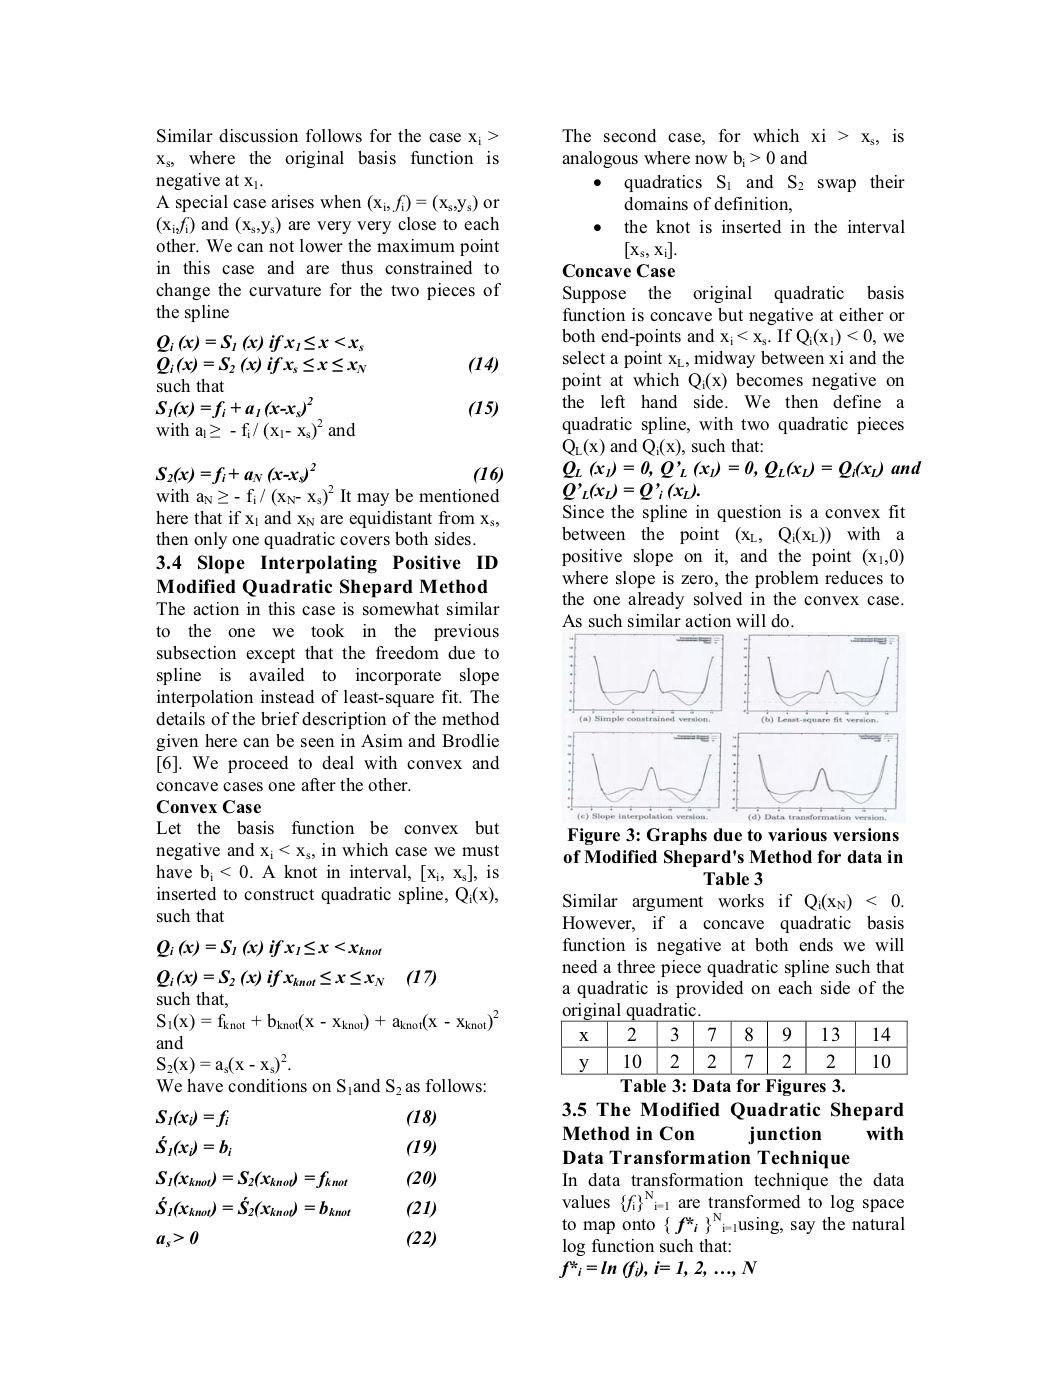Table: (561, 1020, 907, 1074)
figure: (568, 631, 899, 724), (567, 730, 898, 822)
formula: (155, 462, 503, 483), (155, 397, 498, 417), (156, 485, 499, 505), (157, 1010, 498, 1030), (155, 1195, 436, 1218), (157, 356, 498, 374), (563, 460, 921, 478), (155, 1135, 436, 1157), (155, 1108, 436, 1127), (157, 968, 436, 987), (155, 1170, 436, 1188), (156, 1230, 436, 1248), (156, 419, 356, 439), (157, 939, 381, 957), (157, 334, 363, 352), (559, 1260, 757, 1278), (563, 483, 699, 500)
